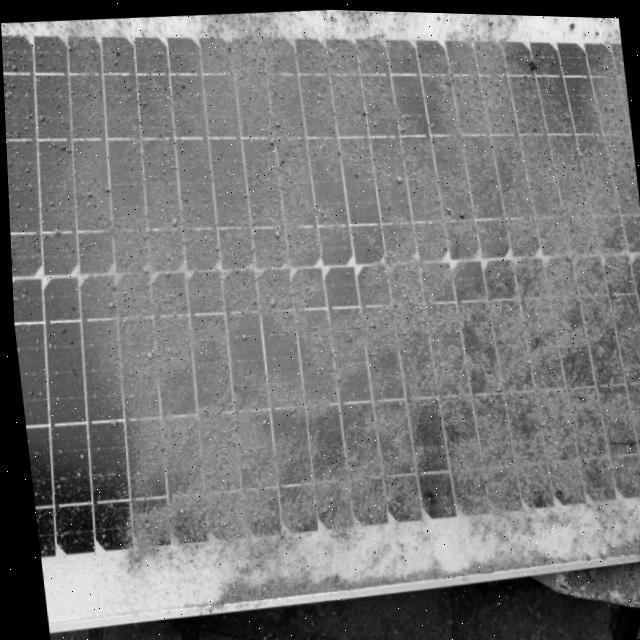Anomaly Solar Panel: (0, 0, 640, 606)
Surface Contaminant: (28, 10, 640, 549)
